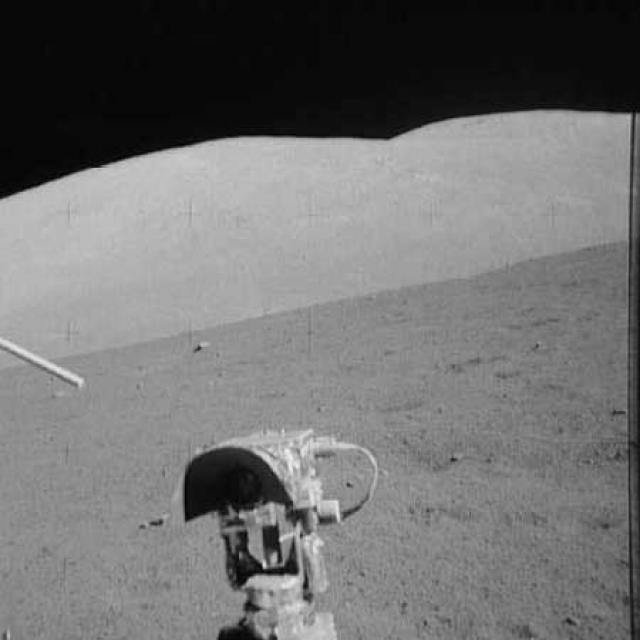artifact: (172, 425, 394, 639), (2, 330, 92, 396), (188, 334, 212, 356)
